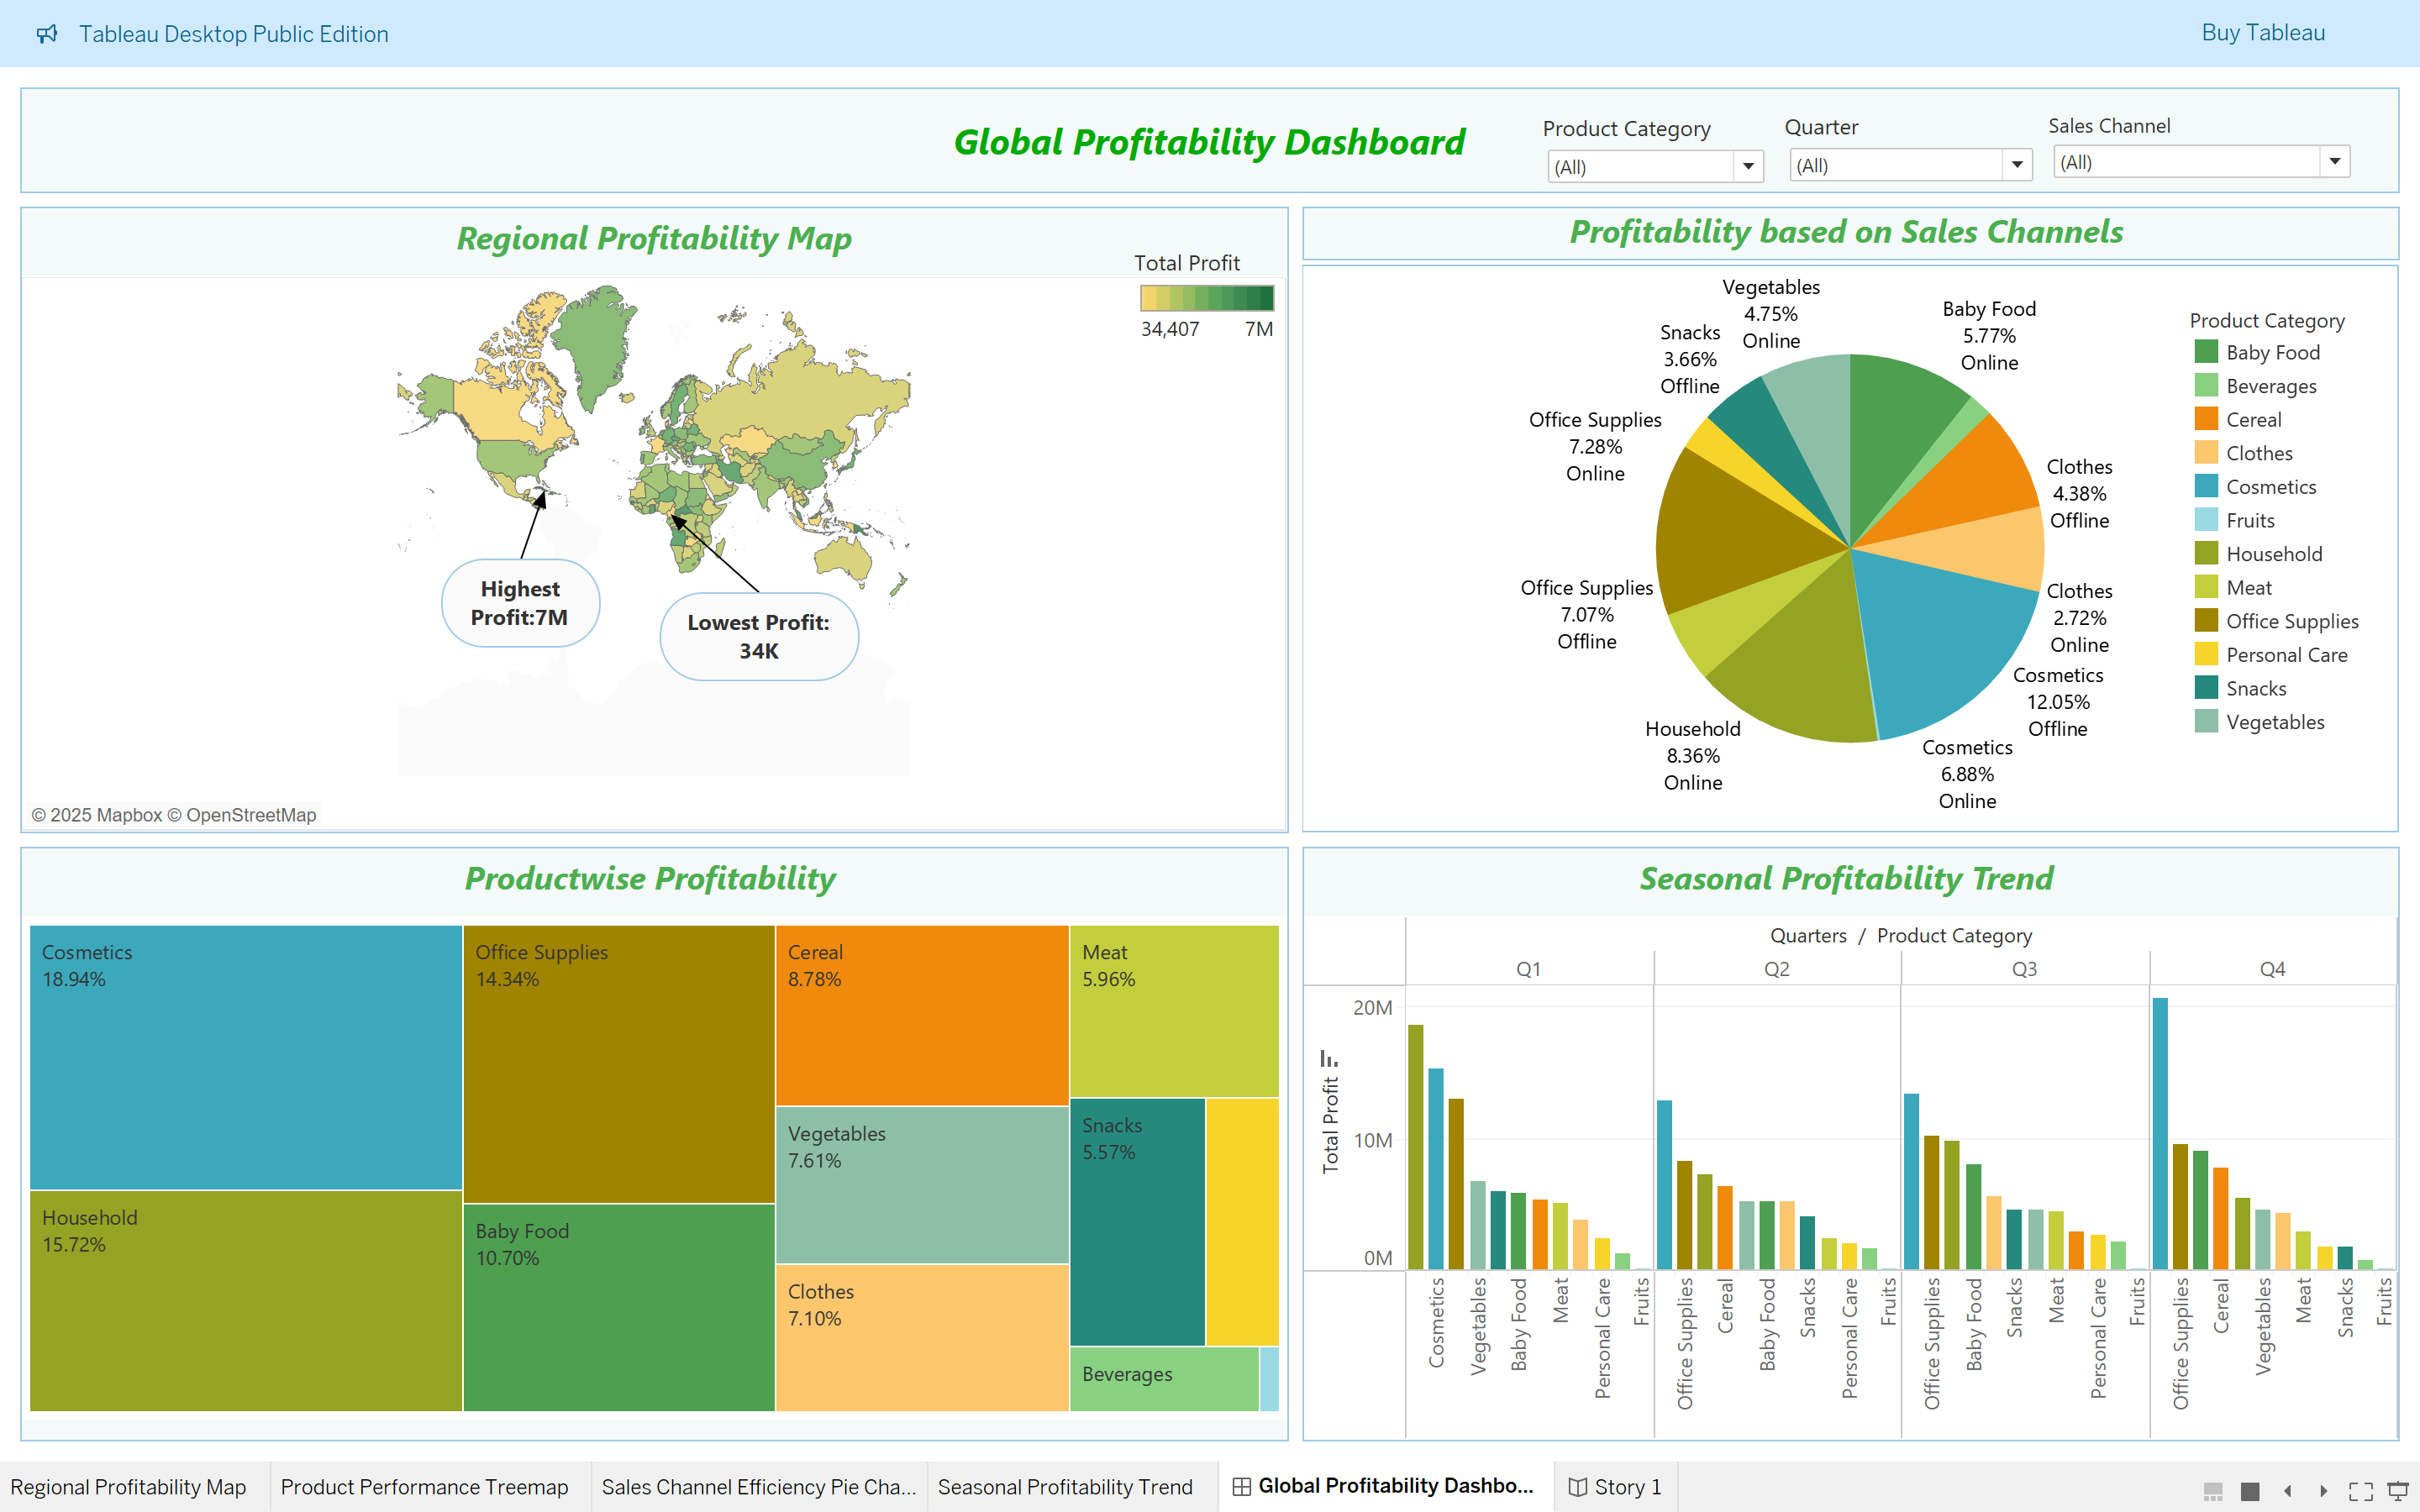

Layout of this report page (visuals, bound fields, positions):
{"tool":"tableau","page":{"name":"Global Profitability Dashboard ","canvas":[1000,1000],"units":"permille","ordinal":0},"visuals":[{"type":"title","box":[6.5,11.8,987,105]},{"type":"filter","title":"Seasonal Profitability Trend","param":"[federated.10yc6xe0l7691w161dmtp1vspgke].[qr:Order Date:ok]","box":[737.4,31.1,104.9,60.6]},{"type":"filter","title":"Sales Channel Efficiency Pie Chart (2)","param":"[federated.10yc6xe0l7691w161dmtp1vspgke].[none:Sales Channel:nk]","box":[846.3,31.1,126.8,65.1]},{"type":"filter","title":"Seasonal Profitability Trend","param":"[federated.10yc6xe0l7691w161dmtp1vspgke].[none:Item Type:nk]","box":[637.4,32.5,93.5,65.1]},{"type":"worksheet","title":"Regional Profitability Map","mark":"Automatic","box":[6.5,116.9,529.1,446.9]},{"type":"worksheet","title":"Sales Channel Efficiency Pie Chart (2)","mark":"Pie","box":[535.6,116.9,457.9,446.9]},{"type":"legend","title":"Regional Profitability Map","param":"[federated.10yc6xe0l7691w161dmtp1vspgke].[sum:Total Profit:qk]","box":[468.7,128.7,61,79.9]},{"type":"legend","title":"Seasonal Profitability Trend","param":"[federated.10yc6xe0l7691w161dmtp1vspgke].[none:Item Type:nk]","box":[904.9,171.6,84.5,384.6]},{"type":"worksheet","title":"Product Performance Treemap","mark":"Automatic","box":[6.5,563.8,529.2,424.4]},{"type":"worksheet","title":"Seasonal Profitability Trend","mark":"Automatic","rows":["Total Profit"],"cols":["Calculation_1750492909854294016","Item Type"],"box":[535.7,563.8,457.8,424.4]}]}

Visuals, with their boxes on the dashboard's canvas, which has no fixed pixel size, in thousandths of its width and height (x1, y1, x2, y2). These are canvas units, not pixel positions in the 2420x1512 screenshot, which may show the page scaled, cropped or inside an application window:
title: Rect(6, 12, 994, 117)
"Seasonal Profitability Trend" filter: Rect(737, 31, 842, 92)
"Sales Channel Efficiency Pie Chart (2)" filter: Rect(846, 31, 973, 96)
"Seasonal Profitability Trend" filter: Rect(637, 32, 731, 98)
"Regional Profitability Map" worksheet: Rect(6, 117, 536, 564)
"Sales Channel Efficiency Pie Chart (2)" worksheet (Pie marks): Rect(536, 117, 994, 564)
"Regional Profitability Map" legend: Rect(469, 129, 530, 209)
"Seasonal Profitability Trend" legend: Rect(905, 172, 989, 556)
"Product Performance Treemap" worksheet: Rect(6, 564, 536, 988)
"Seasonal Profitability Trend" worksheet: Rect(536, 564, 994, 988)
